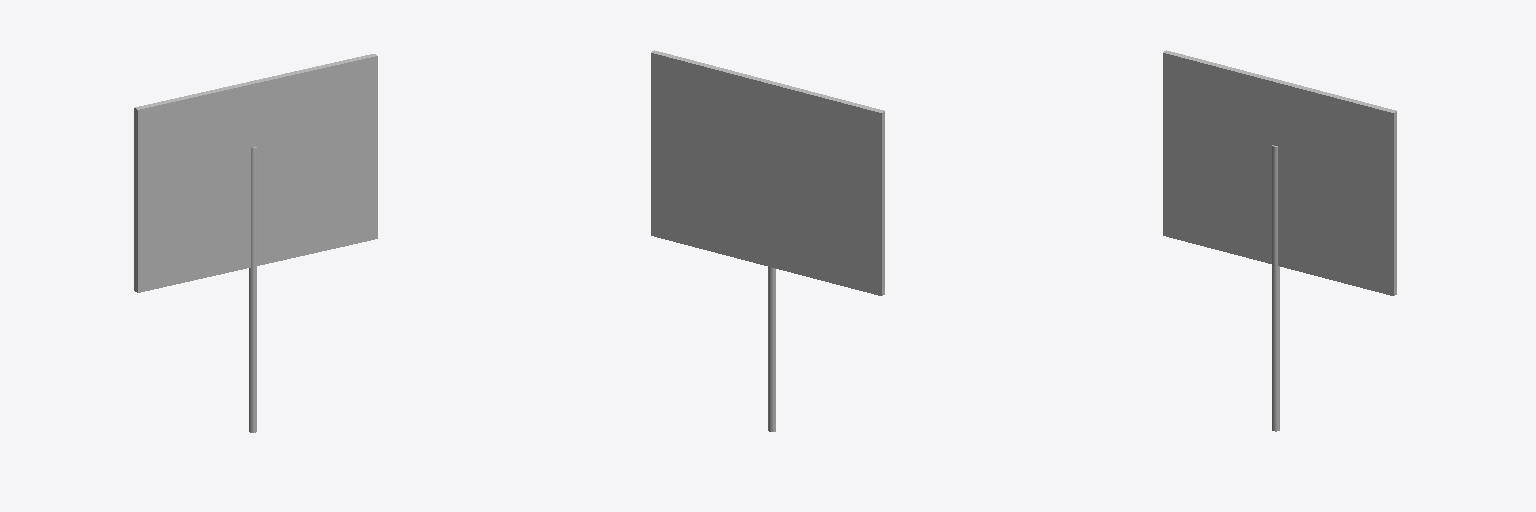
Rendered from board_15.obj.
3 renders of one model, left to right at view 1: azimuth 30°, elevation 25°; view 2: azimuth 150°, elevation 25°; view 3: azimuth 330°, elevation 25°, orthographic.
Parts seen in each view (by area): view 1: Cube.033_Cube.000, Cylinder.033; view 2: Cube.033_Cube.000, Cylinder.033; view 3: Cube.033_Cube.000, Cylinder.033.
Boxes of the visible parts, <box> form: Cube.033_Cube.000: <box>134,54,377,292</box>; Cylinder.033: <box>249,147,256,432</box>; Cube.033_Cube.000: <box>651,50,884,295</box>; Cylinder.033: <box>768,267,775,431</box>; Cube.033_Cube.000: <box>1163,50,1396,295</box>; Cylinder.033: <box>1272,145,1279,431</box>.
Bounding box in the file's own units: 0.3819 × 0.5397 × 0.022.